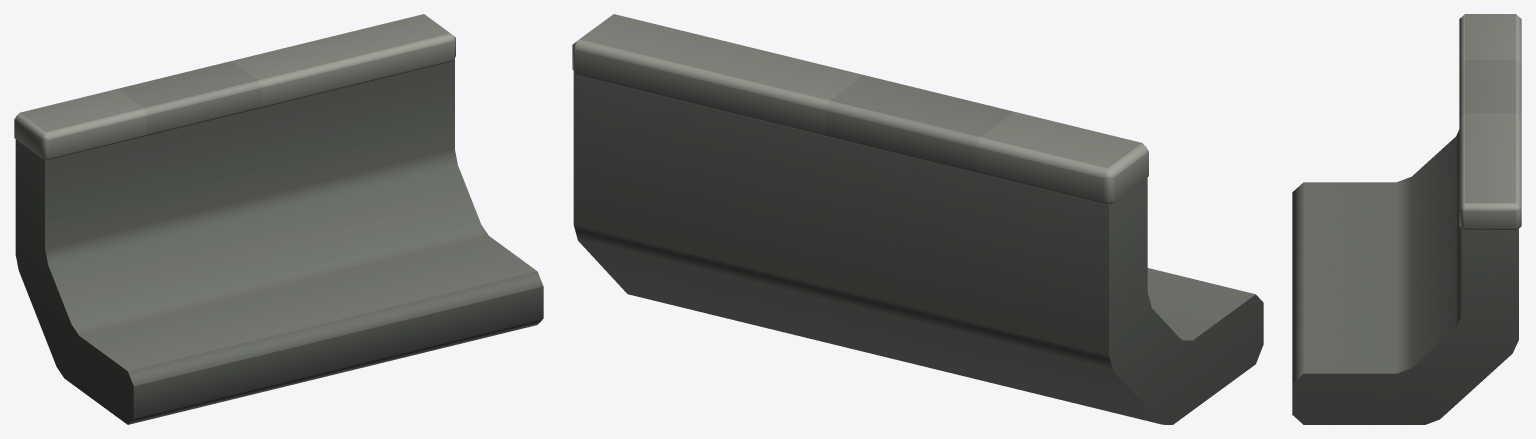
Rendered from canal_wall_section_x4.fbx.
3 views of the same model, side by side, from view 1: azimuth 30°, elevation 25°; view 2: azimuth 150°, elevation 25°; view 3: azimuth 270°, elevation 25° (orthographic). The views are drawn at different scales.
Visible parts, largest first — view 1: canal_wall_section_x4; view 2: canal_wall_section_x4; view 3: canal_wall_section_x4.
Part boxes in pixels (x1=…): canal_wall_section_x4: x1=14, y1=14, x2=543, y2=424; canal_wall_section_x4: x1=572, y1=14, x2=1263, y2=424; canal_wall_section_x4: x1=1292, y1=14, x2=1521, y2=424.
Bounding box in the file's own units: 810 × 430 × 405.
